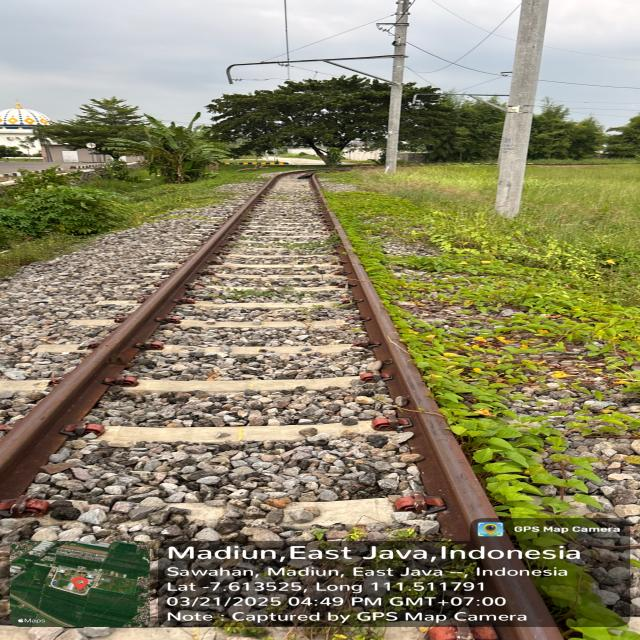rail-detection: (0, 178, 277, 500), (319, 196, 497, 549), (309, 174, 442, 425), (437, 431, 493, 517), (489, 577, 561, 640)
